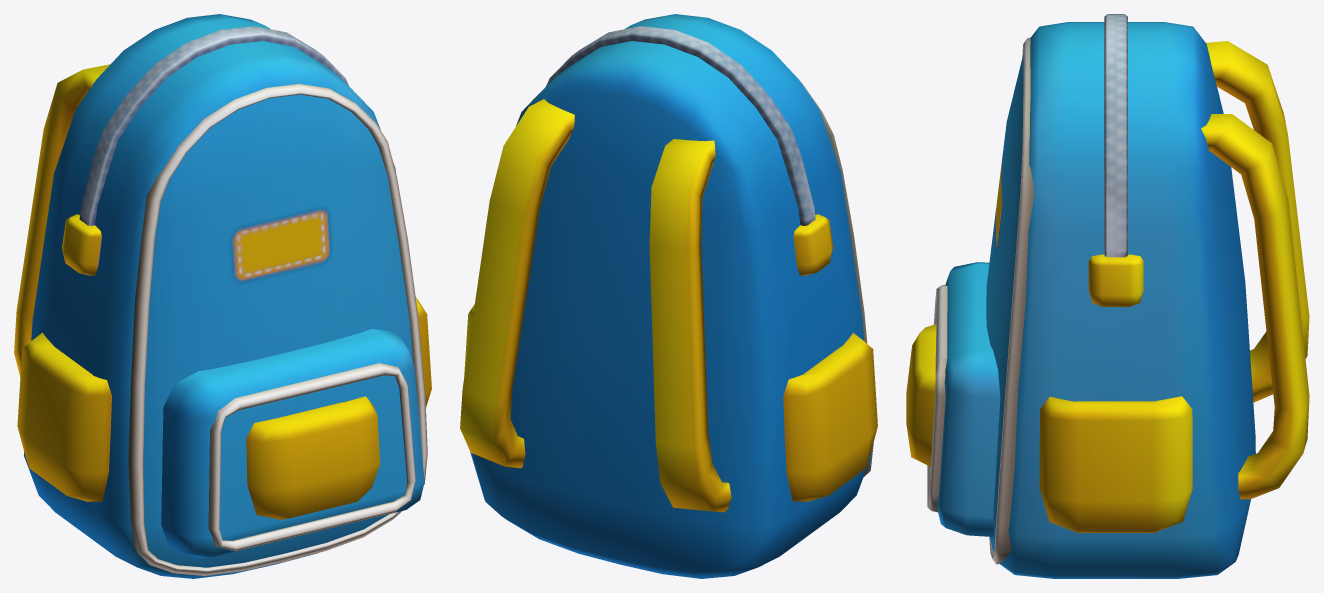
File: backpack_blue.fbx
3 renders of one model, left to right at view 1: azimuth 30°, elevation 25°; view 2: azimuth 150°, elevation 25°; view 3: azimuth 270°, elevation 25°, orthographic. The views are drawn at different scales.
Parts seen in each view (by area): view 1: backpack_blue; view 2: backpack_blue; view 3: backpack_blue.
Part boxes in pixels (x1,y1,x2,y2): backpack_blue: [14, 14, 431, 578]; backpack_blue: [460, 14, 877, 578]; backpack_blue: [906, 14, 1309, 578].
Size of the model in its own units: 1.05 by 1.38 by 0.9904.
